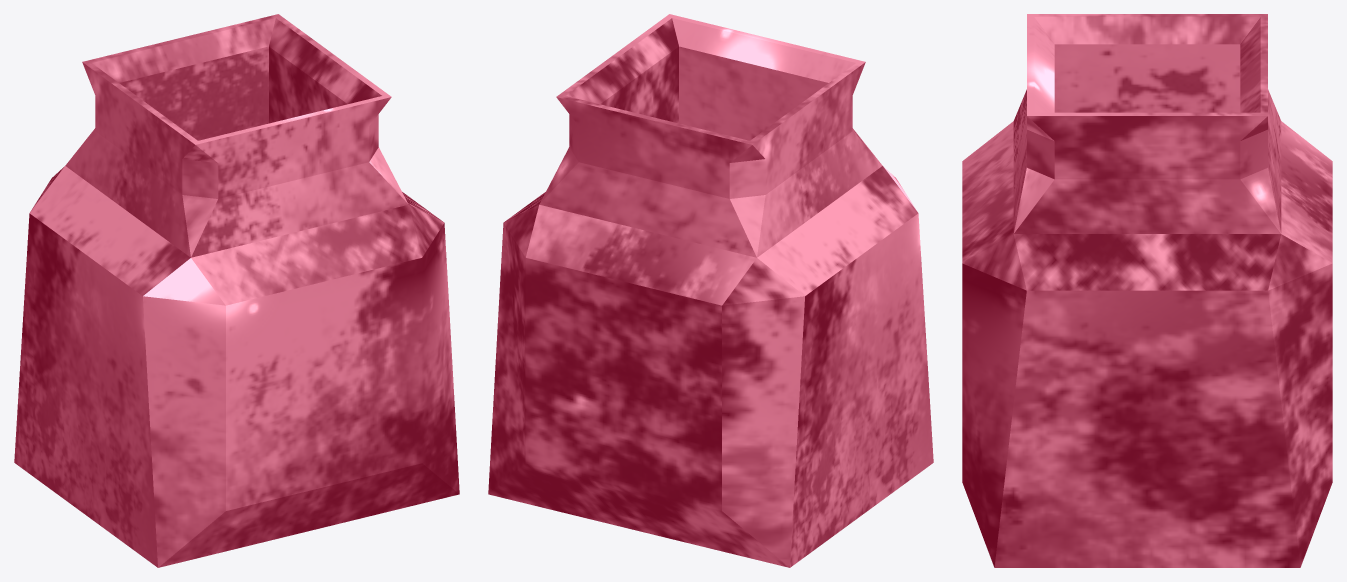
The model's file is vasija.glb.
The picture shows the model from 3 angles, left to right: view 1: azimuth 30°, elevation 25°; view 2: azimuth 150°, elevation 25°; view 3: azimuth 270°, elevation 25°; orthographic projection. The views are drawn at different scales.
Parts seen in each view (by area): view 1: Cube; view 2: Cube; view 3: Cube.
Boxes of the visible parts, left/top/right/bottom form: Cube: left=14, top=14, right=459, bottom=567; Cube: left=488, top=14, right=933, bottom=567; Cube: left=962, top=14, right=1332, bottom=567.
Bounding box in the file's own units: 2 × 2.53 × 2.
Materials: 1 (1 with a texture image).
